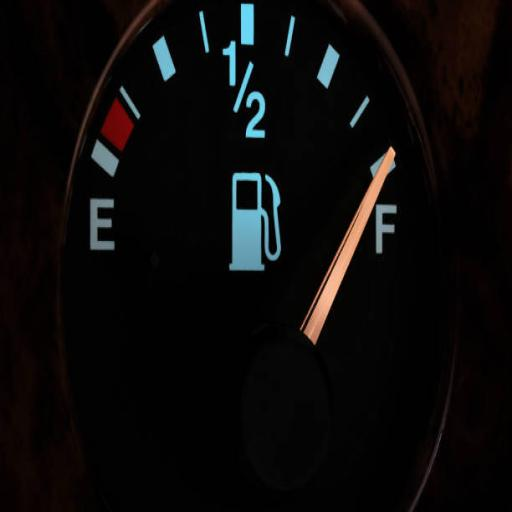empty: (87, 190, 121, 260)
fuel_icon: (222, 164, 288, 281)
full: (374, 199, 402, 260)
guage_area: (2, 2, 512, 512)
needle_center: (234, 314, 334, 468)
needle_tip: (378, 138, 402, 184)
